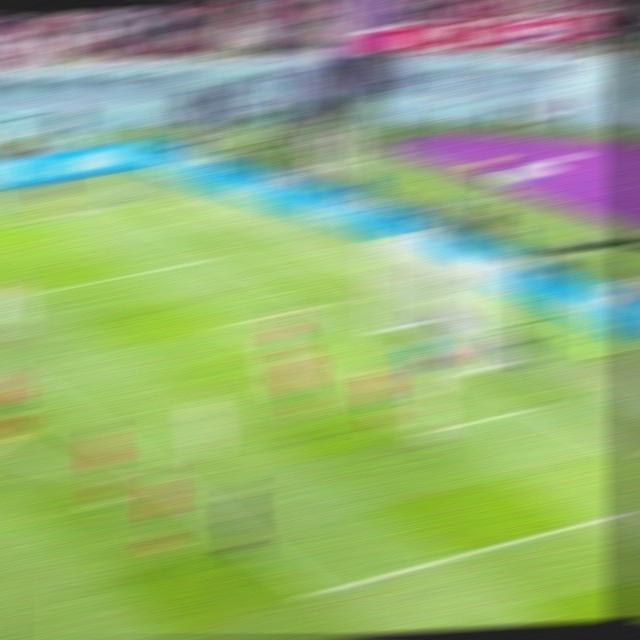bigarea_bottom_inner: (301, 581, 333, 607)
bigarea_top_outter: (210, 250, 238, 262)
corner: (101, 202, 136, 211)
smallarea_bottom_outter: (518, 399, 553, 416)
smallarea_top_inner: (212, 316, 244, 336)
smallarea_top_outter: (310, 301, 340, 311)
top_arc_area_intersection: (8, 372, 36, 393)
